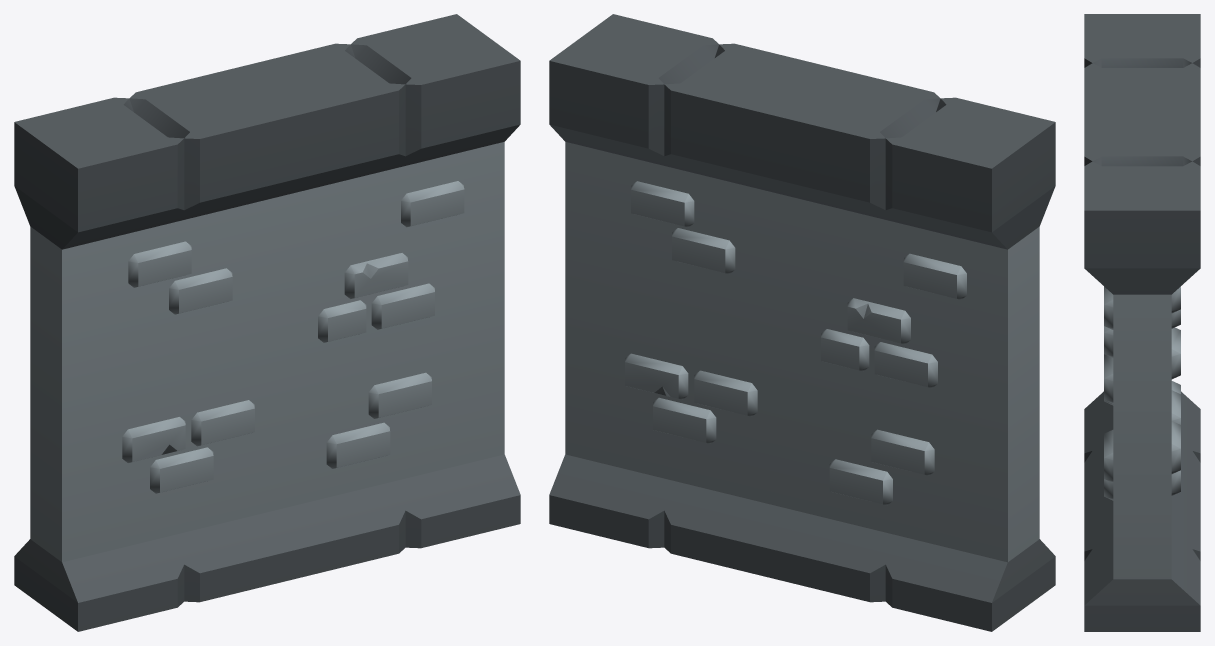
The model's file is wall_str.fbx.
3 renders of one model, left to right at view 1: azimuth 30°, elevation 25°; view 2: azimuth 150°, elevation 25°; view 3: azimuth 270°, elevation 25°, orthographic. The views are drawn at different scales.
Visible parts, largest first — view 1: wall; view 2: wall; view 3: wall.
Boxes of the visible parts, bbox=[...] form: wall: bbox=[14, 14, 520, 631]; wall: bbox=[549, 14, 1055, 631]; wall: bbox=[1084, 14, 1200, 631].
Size of the model in its own units: 400 by 400 by 100.
Materials: 1 (1 with a texture image).
